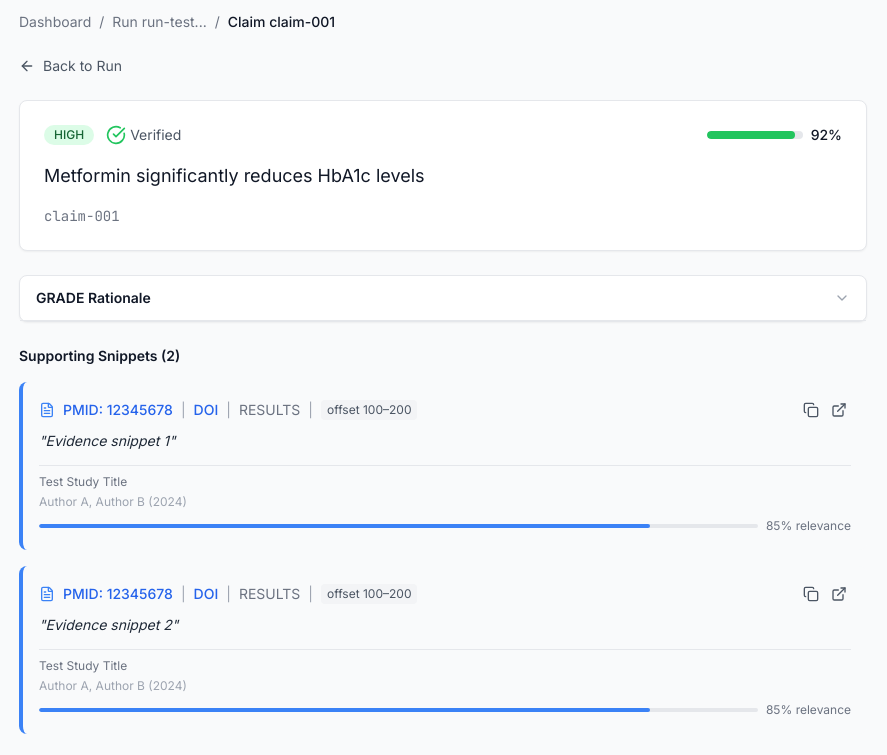
Test: ClaimDetail › GRADE Rationale › expands GRADE details on click
Step 1. Click the button "GRADE Rationale" → (93, 298), box [20, 276, 866, 321]
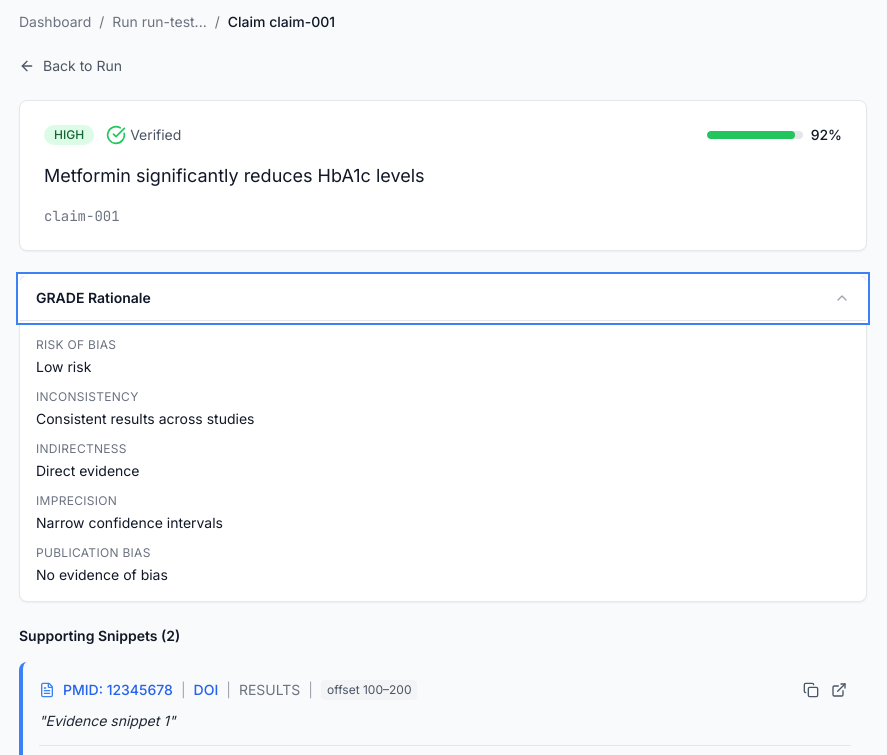
expect the text "risk of bias" is shown: met, box [36, 337, 116, 352]
expect the text "inconsistency" is shown: met, box [36, 389, 139, 404]
expect the text "indirectness" is shown: met, box [36, 441, 127, 456]
